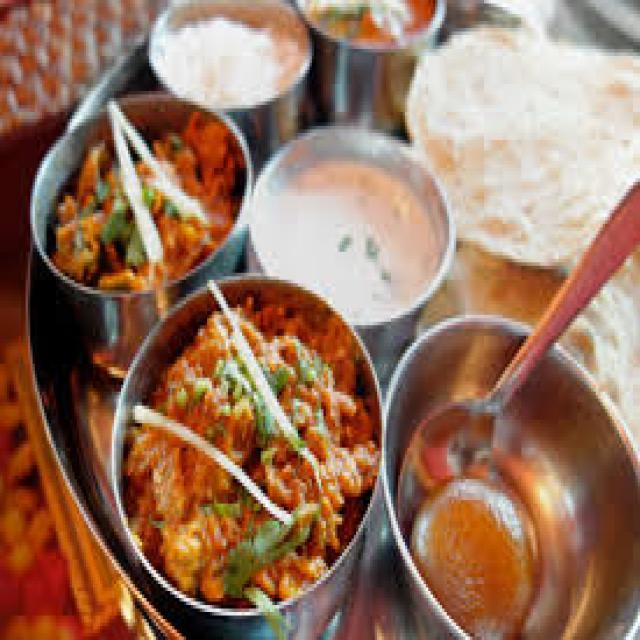curd: (253, 134, 452, 334)
rice: (432, 25, 632, 267)
